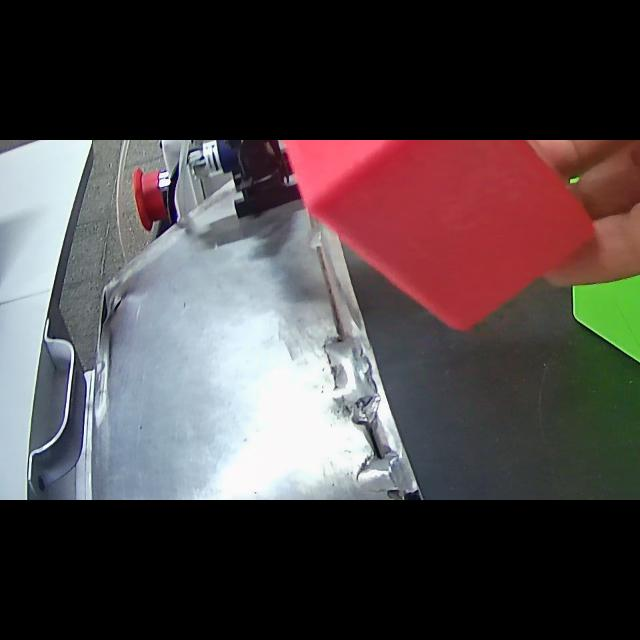greenBox: (560, 185, 640, 437)
redBox: (226, 140, 598, 344)
